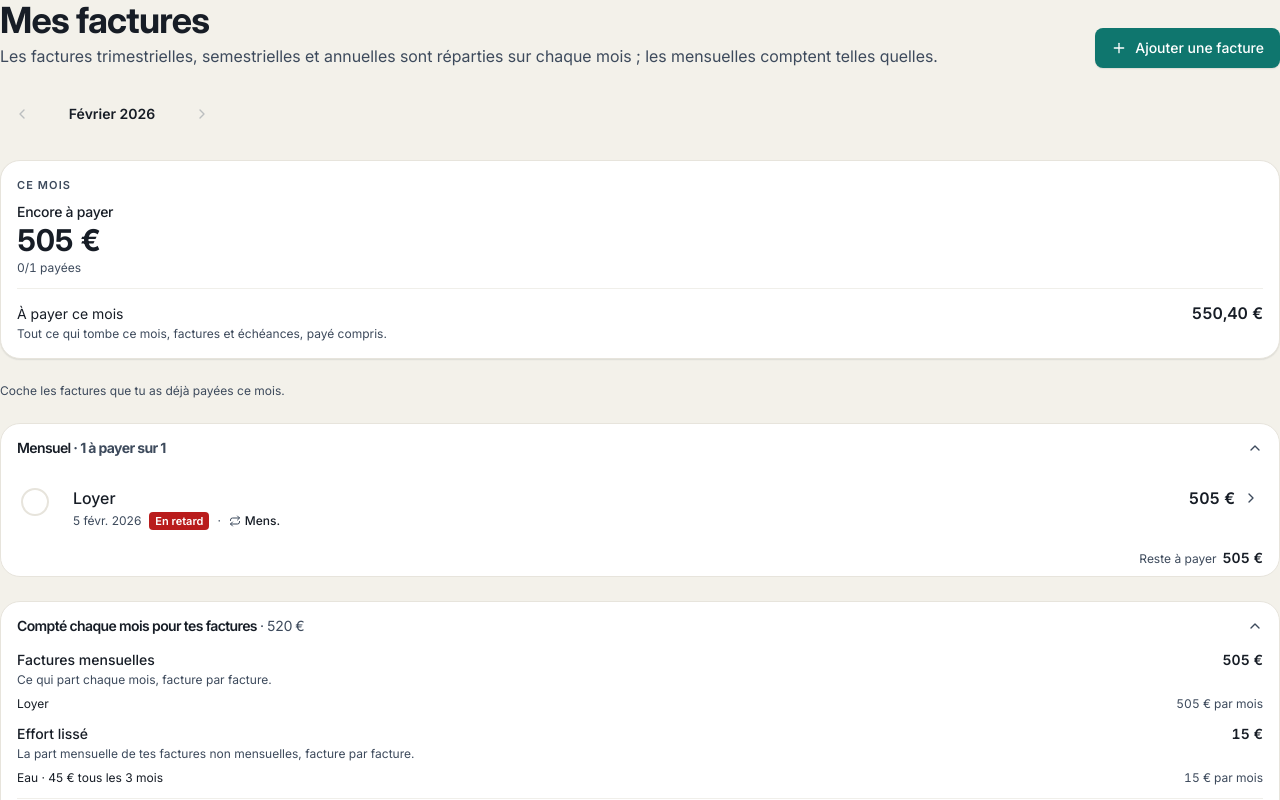
Test case: ChargesClient — v3 shape (F11: one action per row) › the opener reads the description first, and opens the drawer
The width and height of the screenshot is (1280, 800).
Click the button with test id "charges-row-open-rent" at (94, 498), box x1=65 y1=480 x2=1267 y2=536
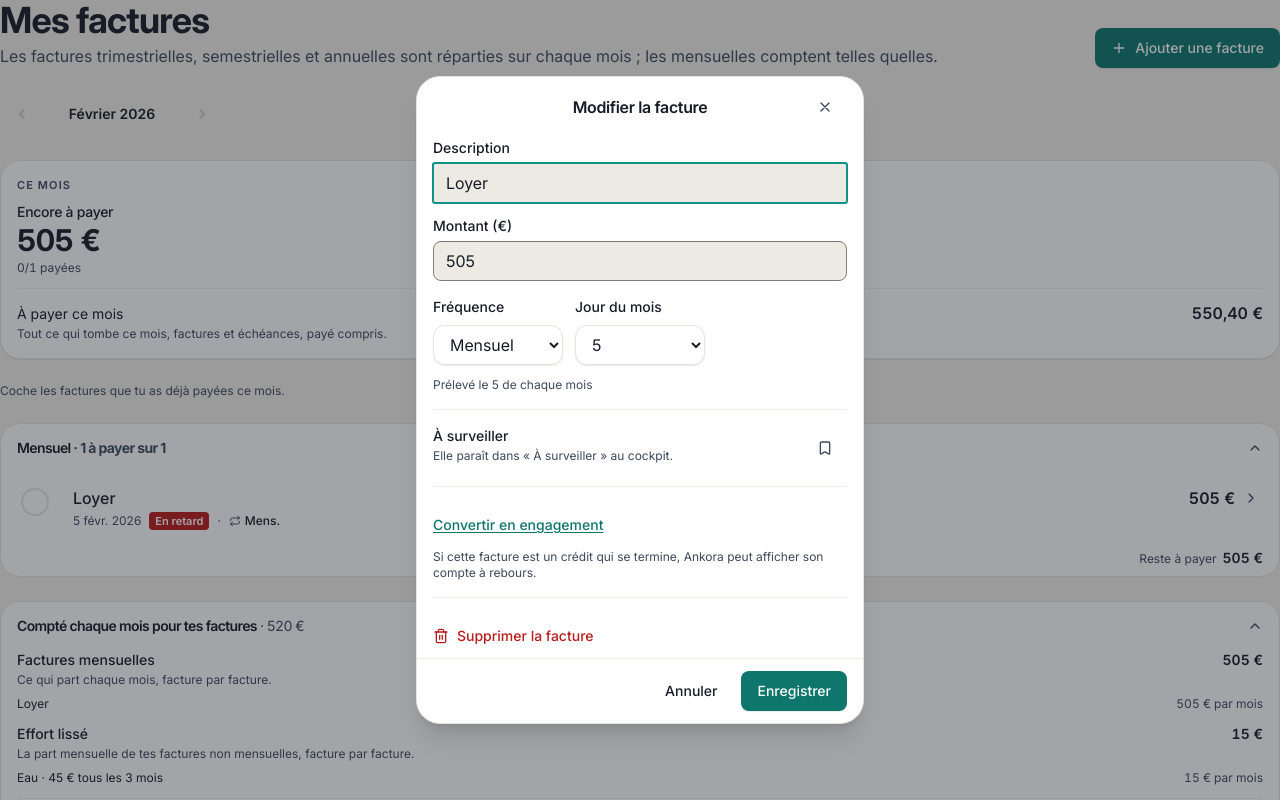
Check: the dialog with test id "charge-edit-drawer" is shown, box x1=416 y1=76 x2=864 y2=724
